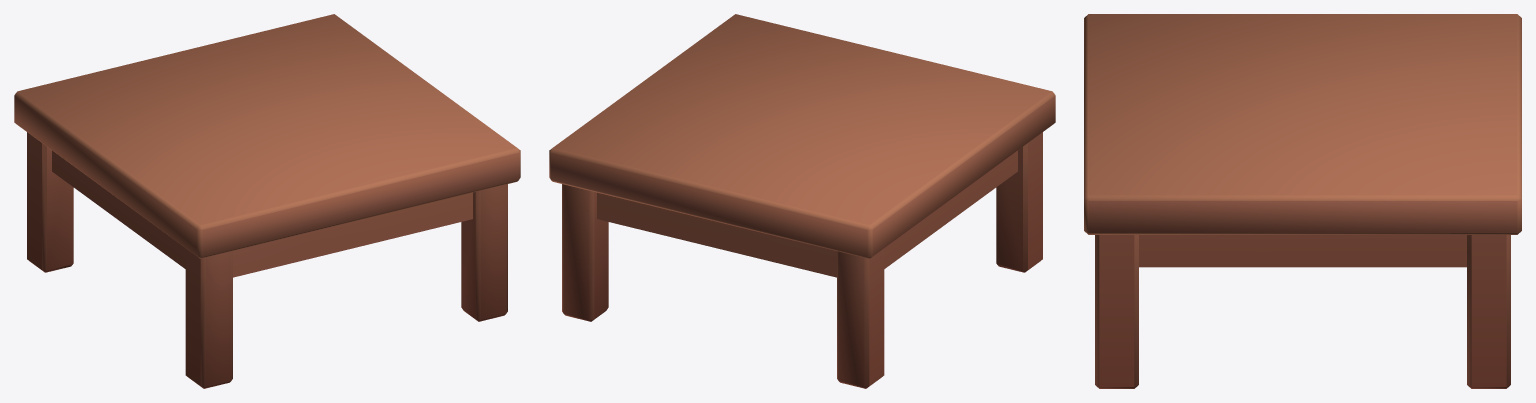
The model's file is table_medium.glb.
The picture shows the model from 3 angles, left to right: view 1: azimuth 30°, elevation 25°; view 2: azimuth 150°, elevation 25°; view 3: azimuth 270°, elevation 25°; orthographic projection. The views are drawn at different scales.
Visible parts, largest first — view 1: table_medium; view 2: table_medium; view 3: table_medium.
Part boxes in pixels (left/top/right/bottom): table_medium: left=14, top=14, right=520, bottom=388; table_medium: left=549, top=14, right=1055, bottom=388; table_medium: left=1084, top=14, right=1521, bottom=388.
Size of the model in its own units: 2 by 1 by 2.
1 material, 1 textured.
